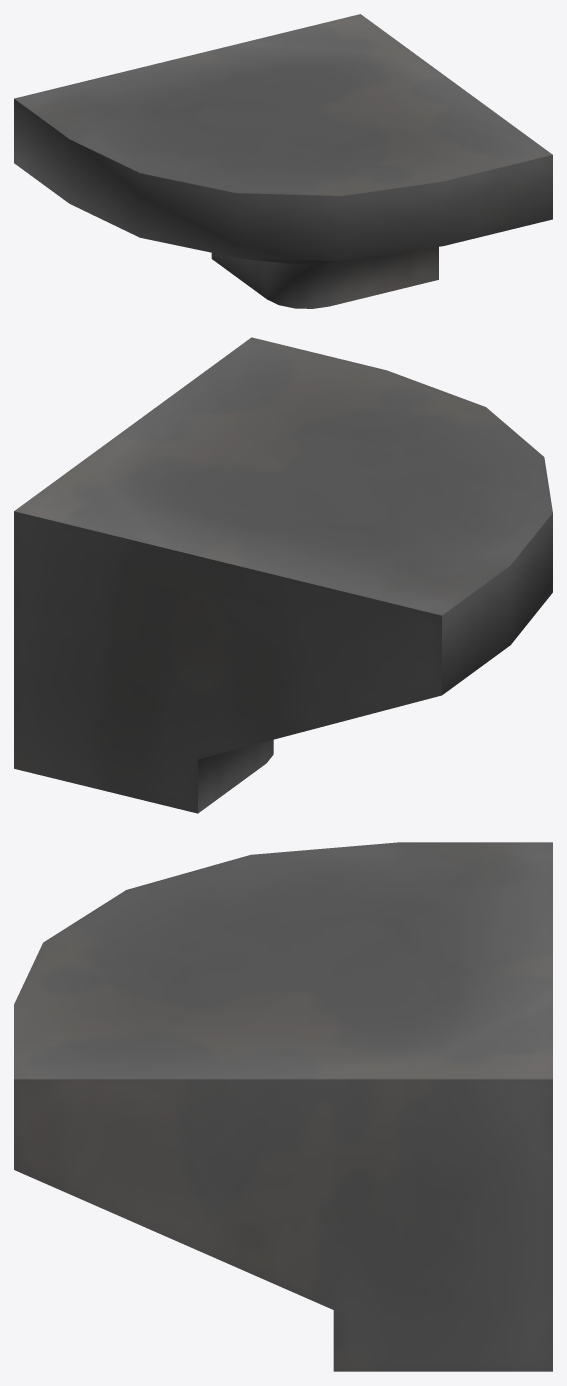
The model's file is Trim_04_Cap_02.fbx.
3 renders of one model, top to bottom at view 1: azimuth 30°, elevation 25°; view 2: azimuth 150°, elevation 25°; view 3: azimuth 270°, elevation 25°, orthographic. The views are drawn at different scales.
Parts seen in each view (by area): view 1: Trim_04_Cap_02; view 2: Trim_04_Cap_02; view 3: Trim_04_Cap_02.
Boxes of the visible parts, box(x1,y1,x2,y2) form: Trim_04_Cap_02: box(14, 14, 552, 308); Trim_04_Cap_02: box(14, 337, 552, 813); Trim_04_Cap_02: box(14, 842, 552, 1371).
Bounding box in the file's own units: 0.497 × 0.2857 × 0.4778.
